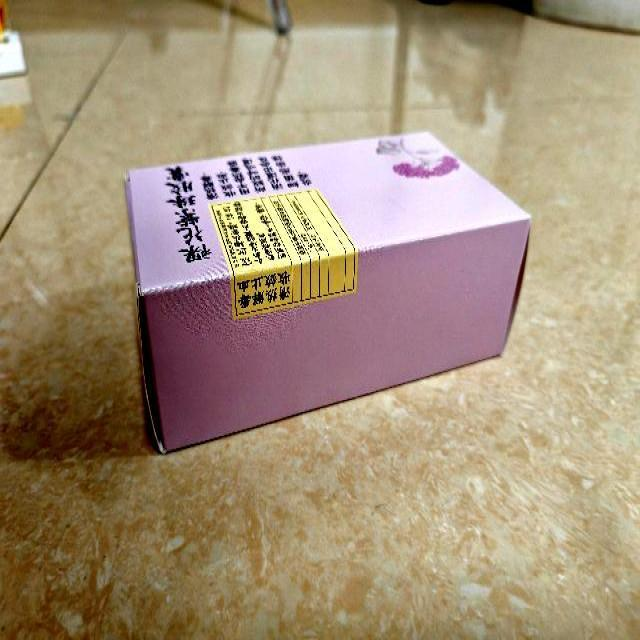box: (125, 130, 531, 458)
